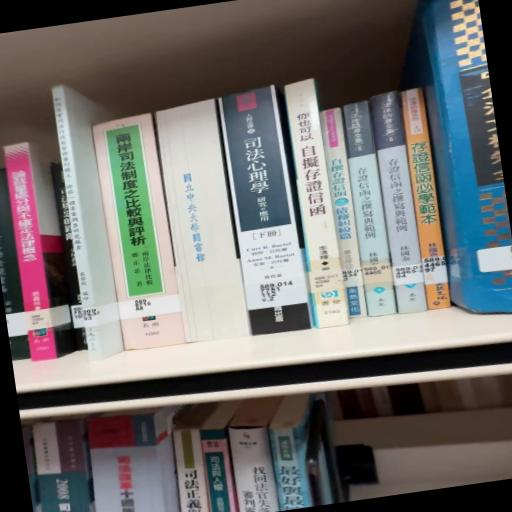backward: (156, 100, 251, 343)
book: (408, 1, 512, 326), (217, 89, 315, 344), (284, 80, 357, 333), (91, 117, 182, 307), (338, 105, 402, 324), (228, 420, 282, 512)
